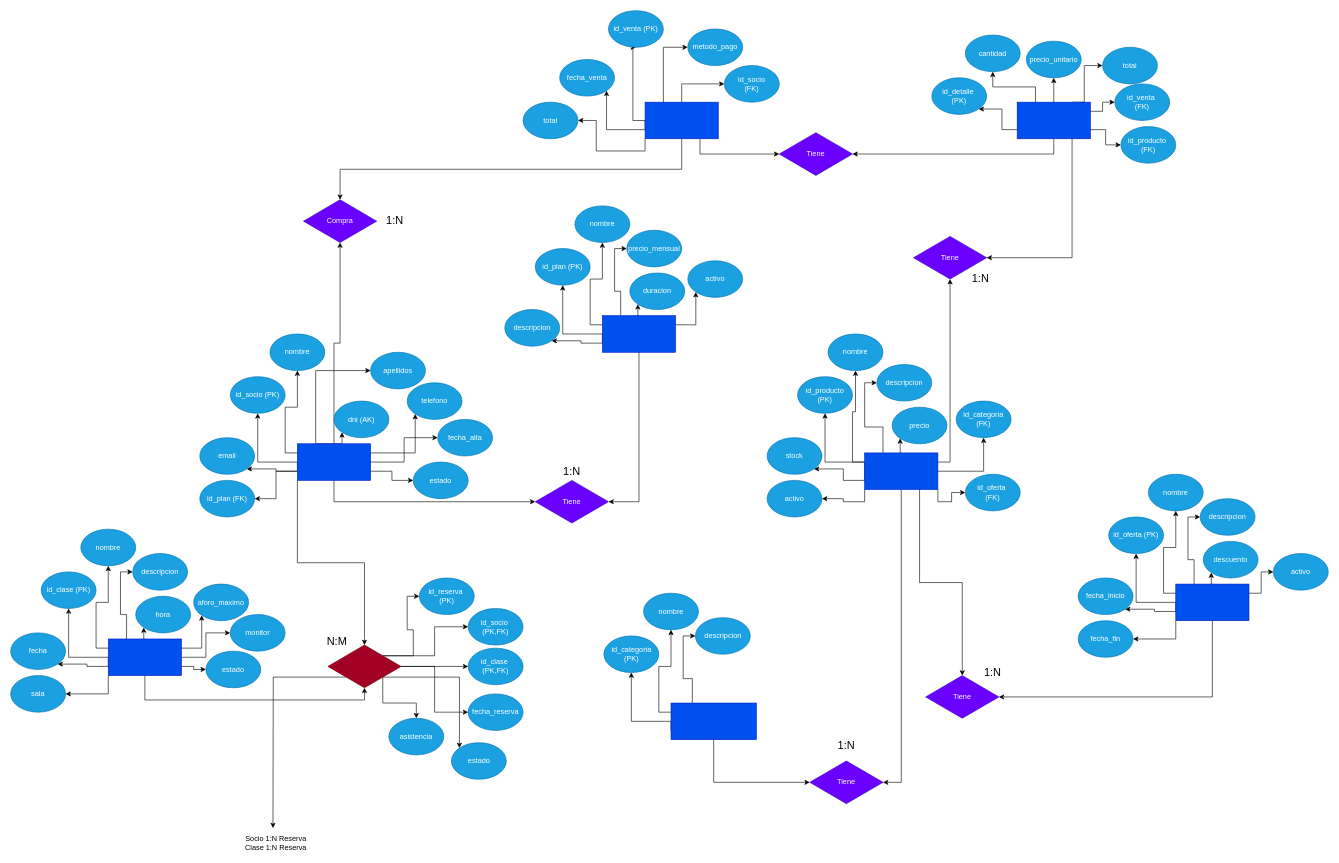
This 1339x863 diagram has some shape labels left out. Each missing label, with the centre of its shape:
"Categoria_Producto" goes at pixel 713 721.
"Clase" goes at pixel 144 657.
"Detalle_Venta" goes at pixel 1053 120.
"Oferta_Producto" goes at pixel 1212 602.
"Plan" goes at pixel 639 333.
"Producto" goes at pixel 901 471.
"Reserva" goes at pixel 364 666.
"Socio" goes at pixel 334 461.
"Venta_Producto" goes at pixel 681 120.
